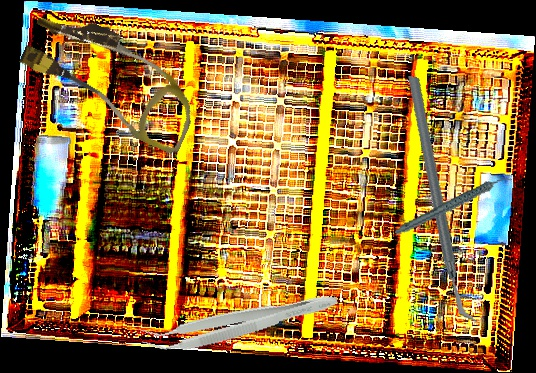Cannula: (9, 1, 213, 157)
Chopper: (359, 75, 526, 323)
Handpiece: (388, 175, 519, 237)
Tissue Forceps: (138, 280, 341, 361)
